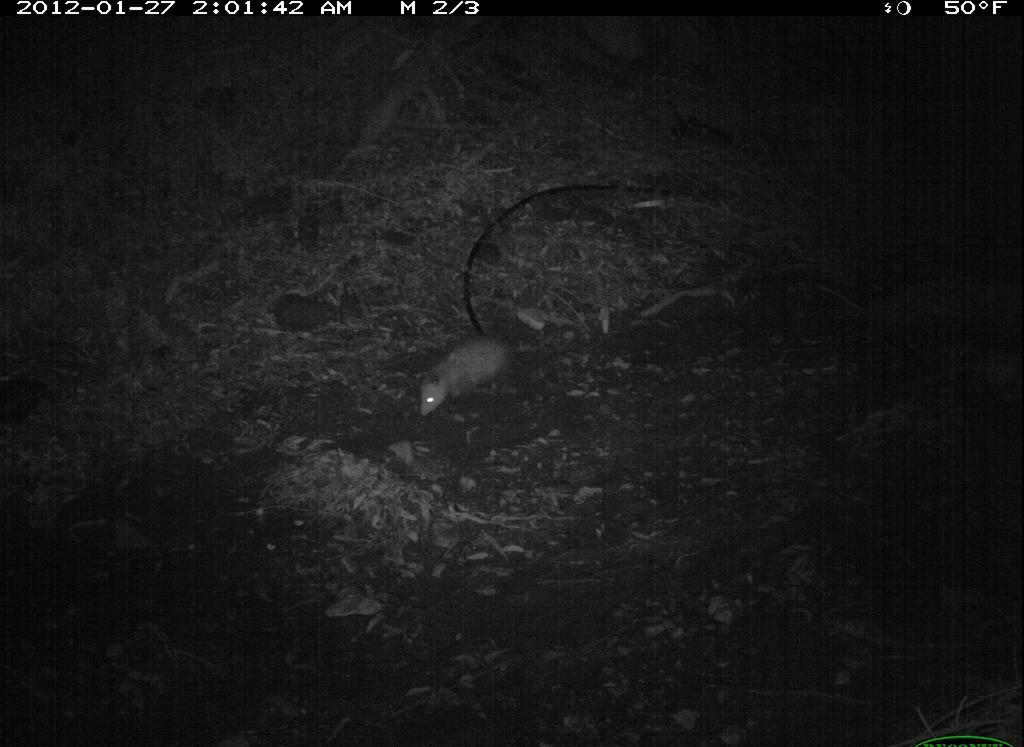opossum: (415, 326, 564, 414)
